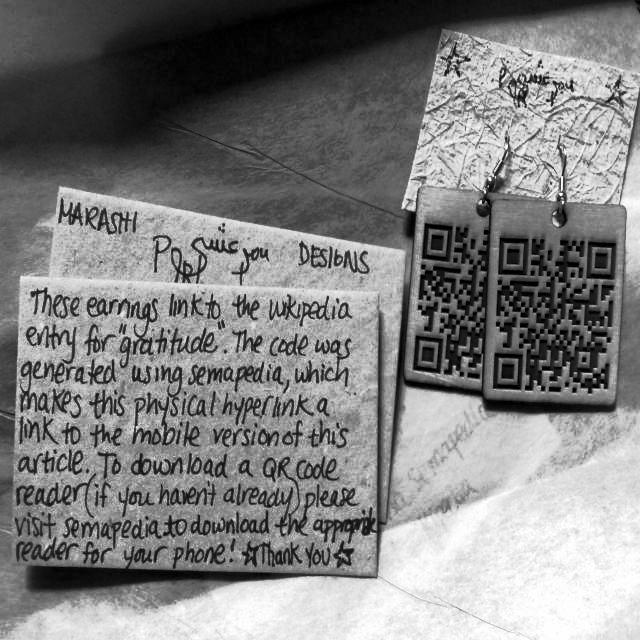qr_code: (493, 238, 616, 394), (413, 223, 489, 379)
